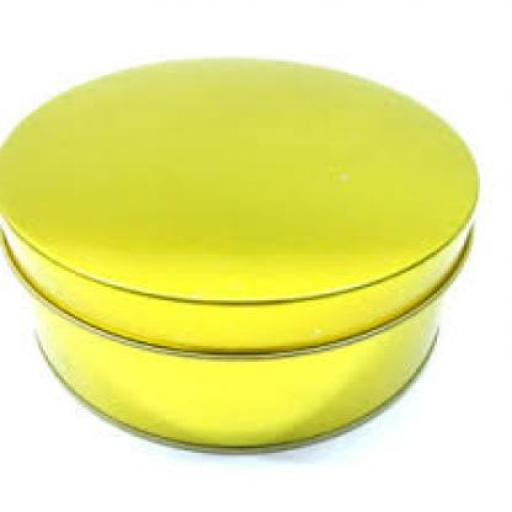metal: (2, 54, 480, 451)
